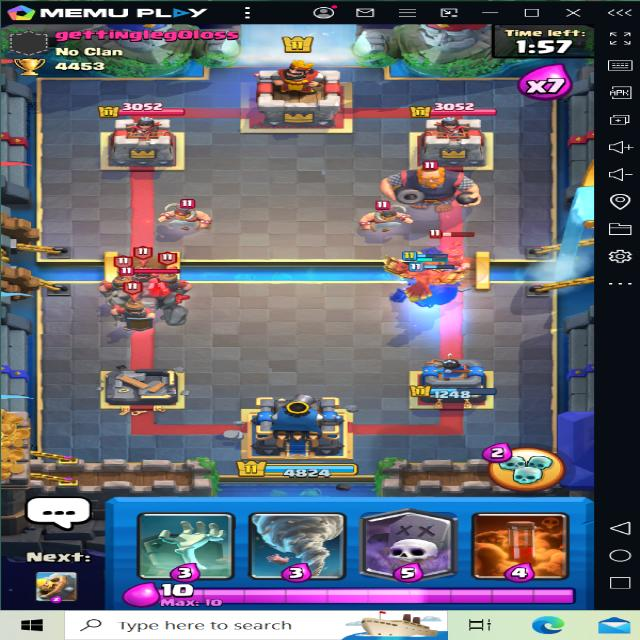electro-barbarians: (160, 190, 212, 232), (364, 196, 409, 233)
golem: (99, 266, 198, 325)
royal-giant: (380, 159, 483, 213)
royal-recruits: (147, 251, 200, 300), (422, 233, 474, 281), (107, 286, 157, 330), (121, 254, 169, 286), (104, 259, 136, 296)
